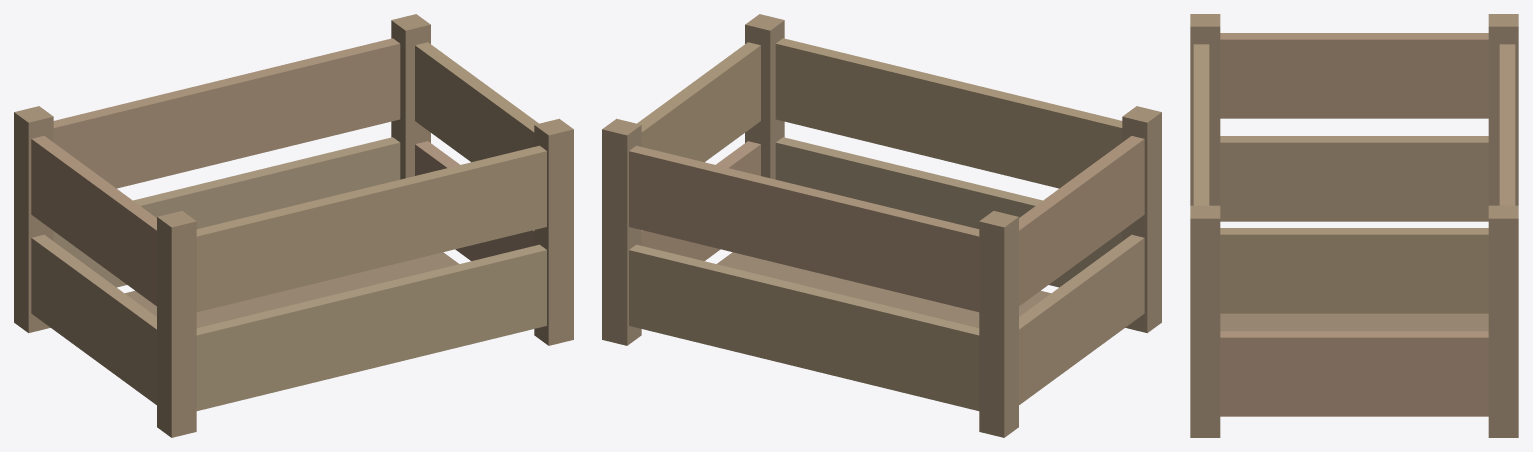
File: SM_BM_BP_Crate.glb
3 renders of one model, left to right at view 1: azimuth 30°, elevation 25°; view 2: azimuth 150°, elevation 25°; view 3: azimuth 270°, elevation 25°, orthographic. The views are drawn at different scales.
Parts seen in each view (by area): view 1: SM_BM_BP_Crate; view 2: SM_BM_BP_Crate; view 3: SM_BM_BP_Crate.
Boxes of the visible parts, x1,y1,x2,y2 form: SM_BM_BP_Crate: [14, 14, 573, 437]; SM_BM_BP_Crate: [602, 14, 1161, 437]; SM_BM_BP_Crate: [1190, 14, 1518, 437].
Bounding box in the file's own units: 0.56 × 0.28 × 0.38.
